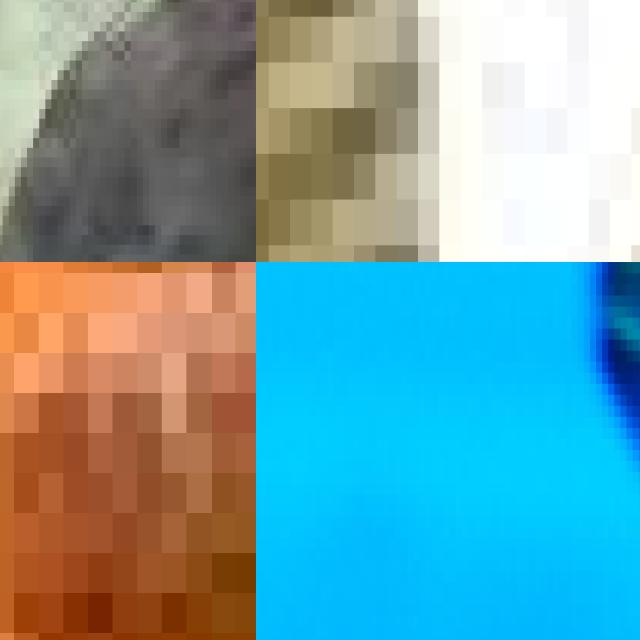fish: (0, 262, 256, 640), (0, 0, 256, 262)
